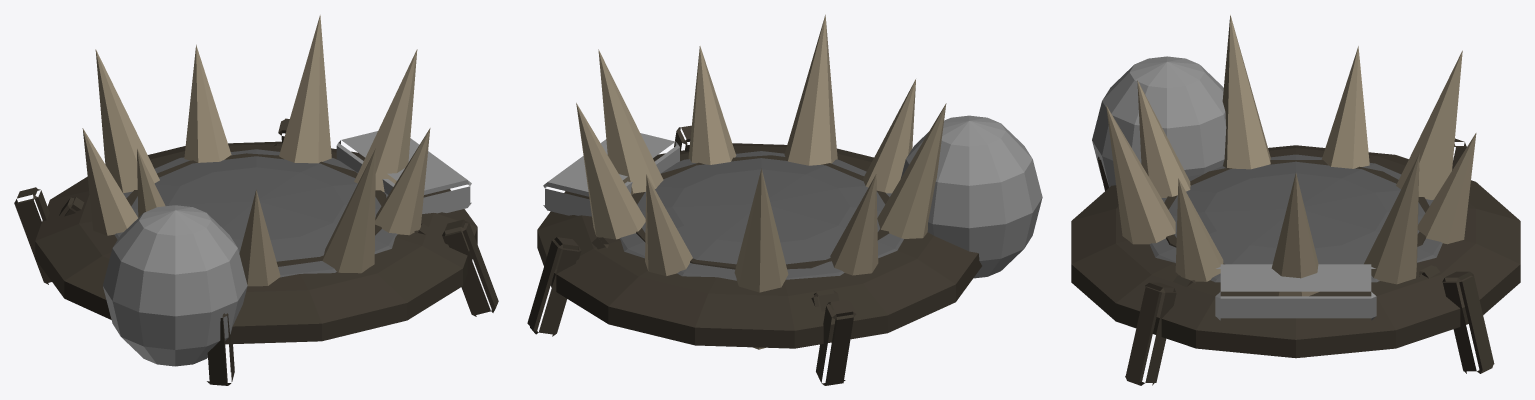
The model's file is bl_pit.glb.
3 renders of one model, left to right at view 1: azimuth 30°, elevation 25°; view 2: azimuth 150°, elevation 25°; view 3: azimuth 270°, elevation 25°, orthographic. The views are drawn at different scales.
Visible parts, largest first — view 1: body; view 2: body; view 3: body.
Boxes of the visible parts, bbox=[...] form: body: bbox=[14, 15, 498, 385]; body: bbox=[527, 14, 1042, 385]; body: bbox=[1071, 15, 1520, 385].
Size of the model in its own units: 85.34 by 42.92 by 80.3.
